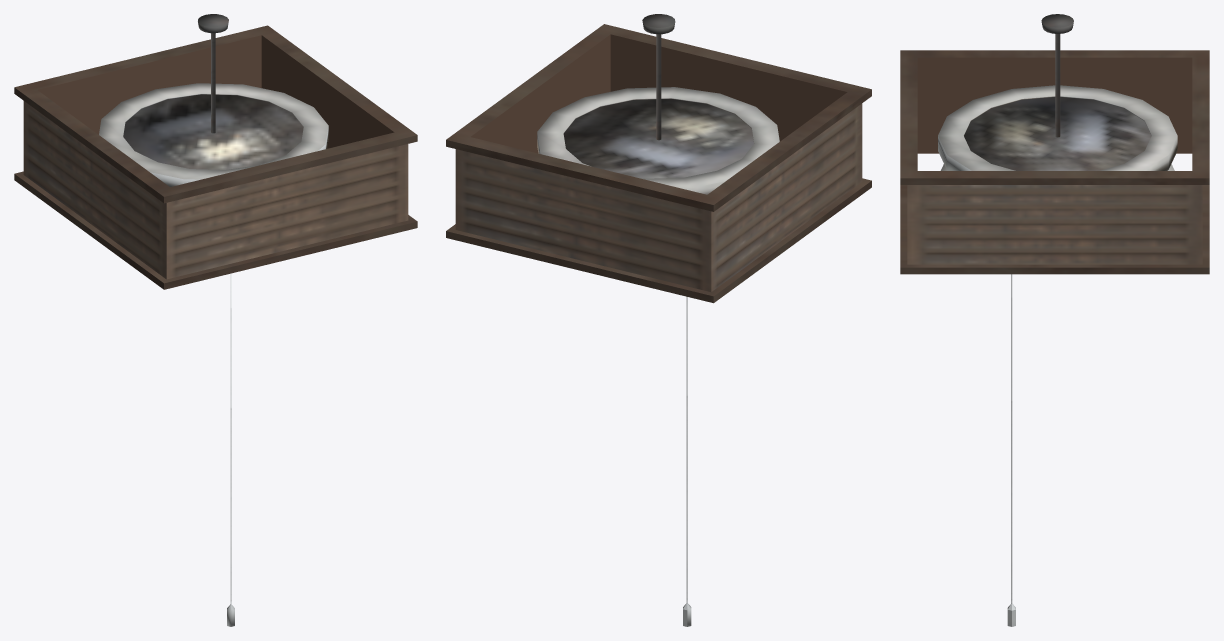
File: lampCeiling.gltf
3 views of the same model, side by side, from view 1: azimuth 30°, elevation 25°; view 2: azimuth 150°, elevation 25°; view 3: azimuth 270°, elevation 25° (orthographic). The views are drawn at different scales.
Visible parts, largest first — view 1: lampCeiling; view 2: lampCeiling; view 3: lampCeiling.
Part boxes in pixels (x1,y1,x2,y2): lampCeiling: (14, 14, 417, 626); lampCeiling: (446, 14, 871, 626); lampCeiling: (900, 14, 1209, 626).
Size of the model in its own units: 0.4359 by 0.9644 by 0.4462.
Materials: 1 (1 with a texture image).
